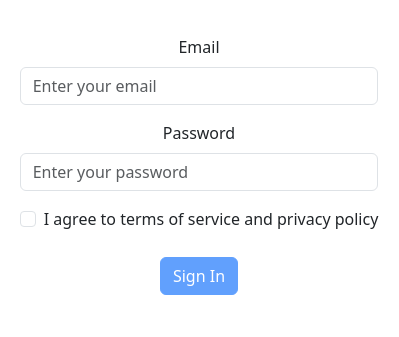
Scenario: Login Tests › wrong email and password
Type "wrong-mail" into the field named "email". click: (200, 86)
box: [20, 67, 379, 105]
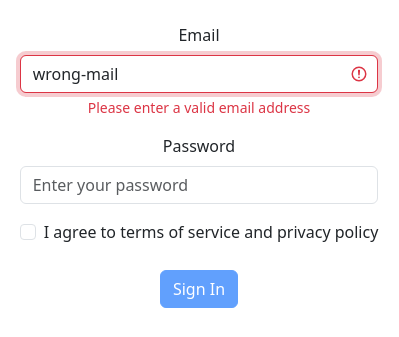
Now the text "Please enter a valid email address" is shown, box [88, 98, 310, 116]
Now the text with test id "email" reads "Please enter a valid email address", box [88, 98, 311, 117]
Type "pas" into the password field named "password". click: (200, 185)
box: [20, 166, 379, 204]
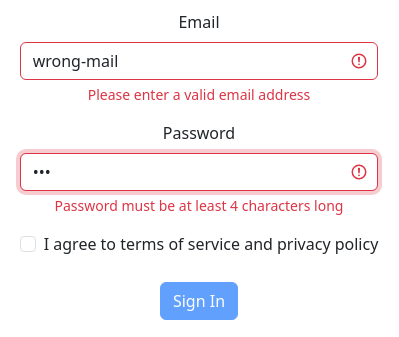
Expected: the button with test id "button" is disabled, [160, 282, 238, 320]
Now the text "Password must be at least 4 characters long" is shown, box [54, 196, 343, 215]
Now the text with test id "password" reads "Password must be at least 4 characters long", box [55, 196, 344, 215]
